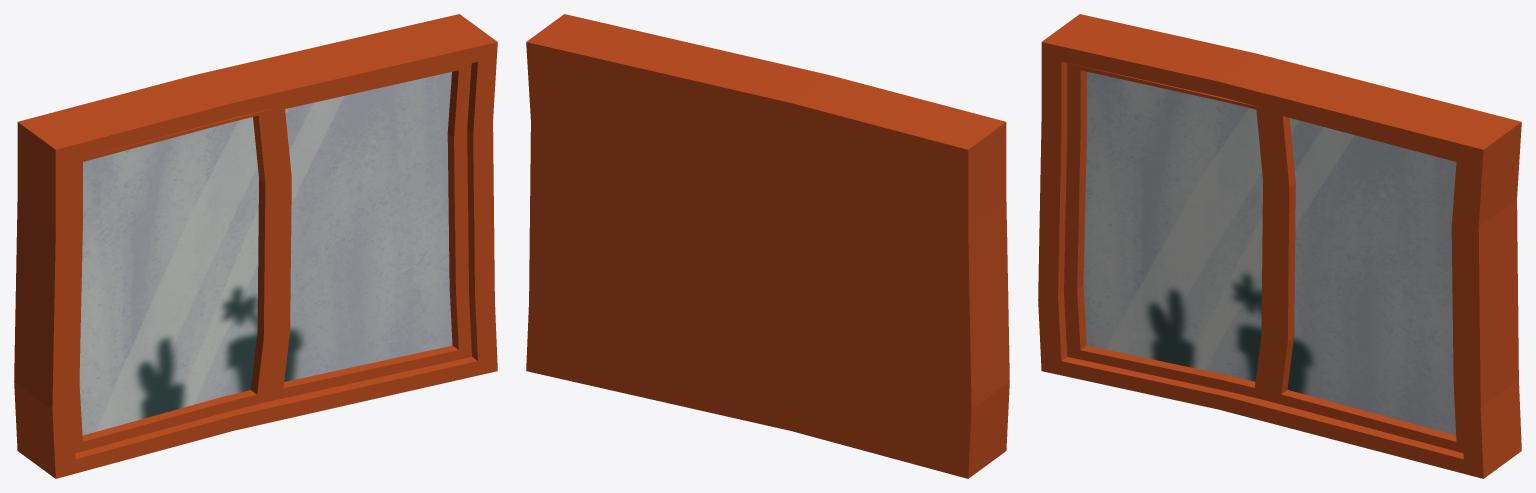
File: Window11.fbx
The picture shows the model from 3 angles, left to right: view 1: azimuth 30°, elevation 25°; view 2: azimuth 150°, elevation 25°; view 3: azimuth 330°, elevation 25°; orthographic projection.
Parts seen in each view (by area): view 1: Cube.077; view 2: Cube.077; view 3: Cube.077.
Part boxes in pixels (bbox=[...]): Cube.077: bbox=[14, 14, 497, 478]; Cube.077: bbox=[526, 14, 1009, 478]; Cube.077: bbox=[1038, 14, 1521, 478].
Bounding box in the file's own units: 165 × 118 × 24.52.
